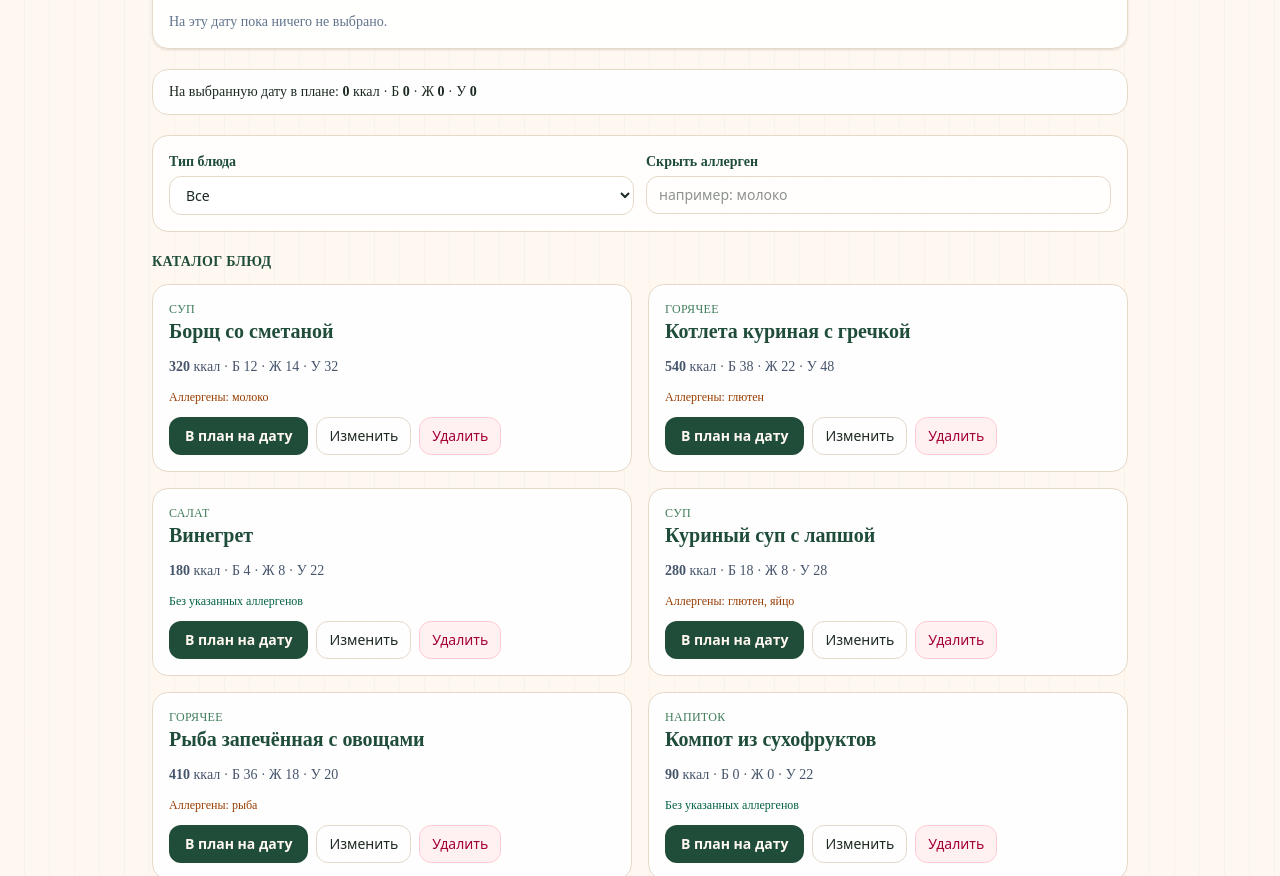
Scenario: App MenuBoard — планировщик еды › добавляет блюдо в план и показывает КБЖУ
(page scrolled)
Expected: the element with test id "dish-d-borscht" is shown, [152,284,632,472]
Click the button with test id "toggle-plan-d-borscht" at coordinates (239, 436), box [169,417,308,455]
(page scrolled)
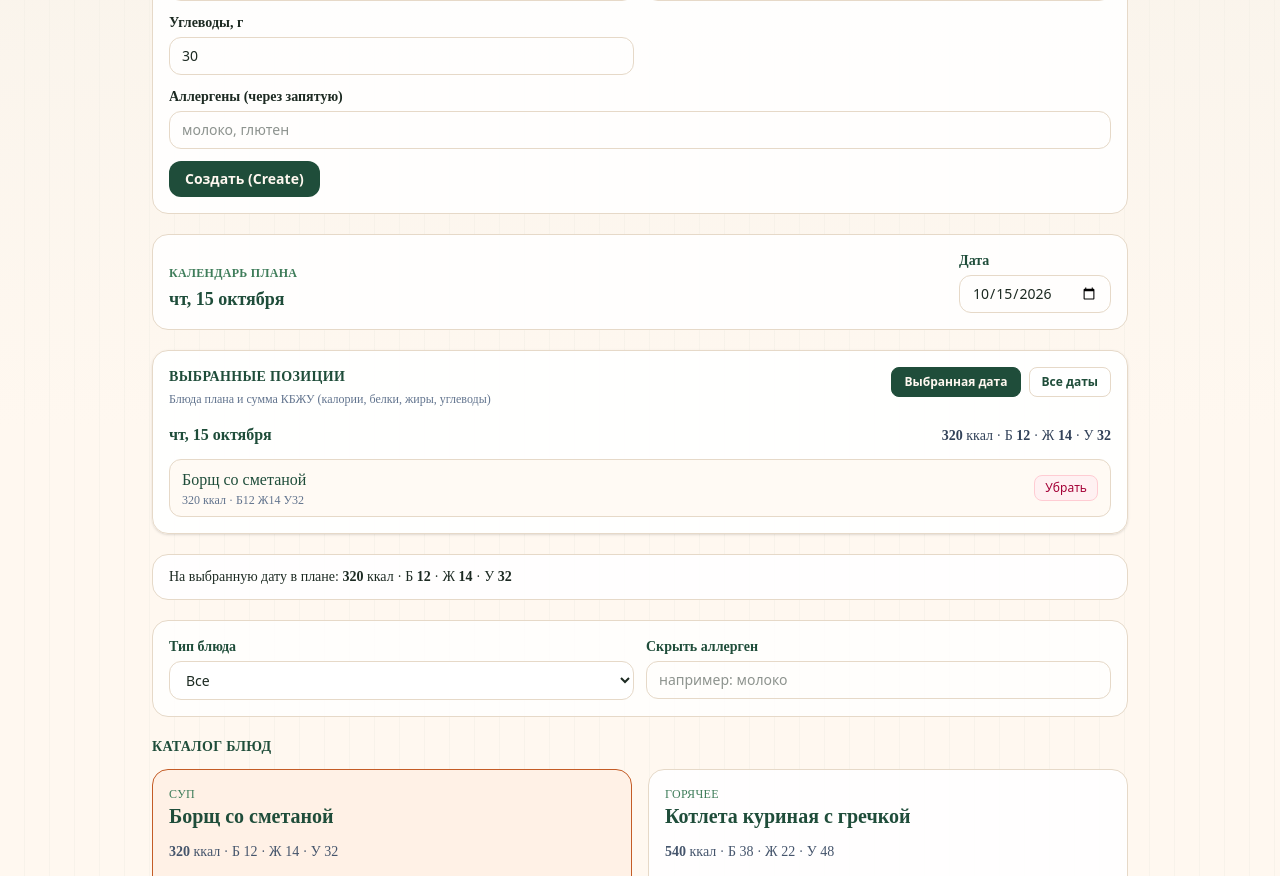
Expected: the element with test id "selected-panel" is shown, [152,350,1128,534]
Expected: the element with test id "day-summary" shows "320", [342,569,363,584]
